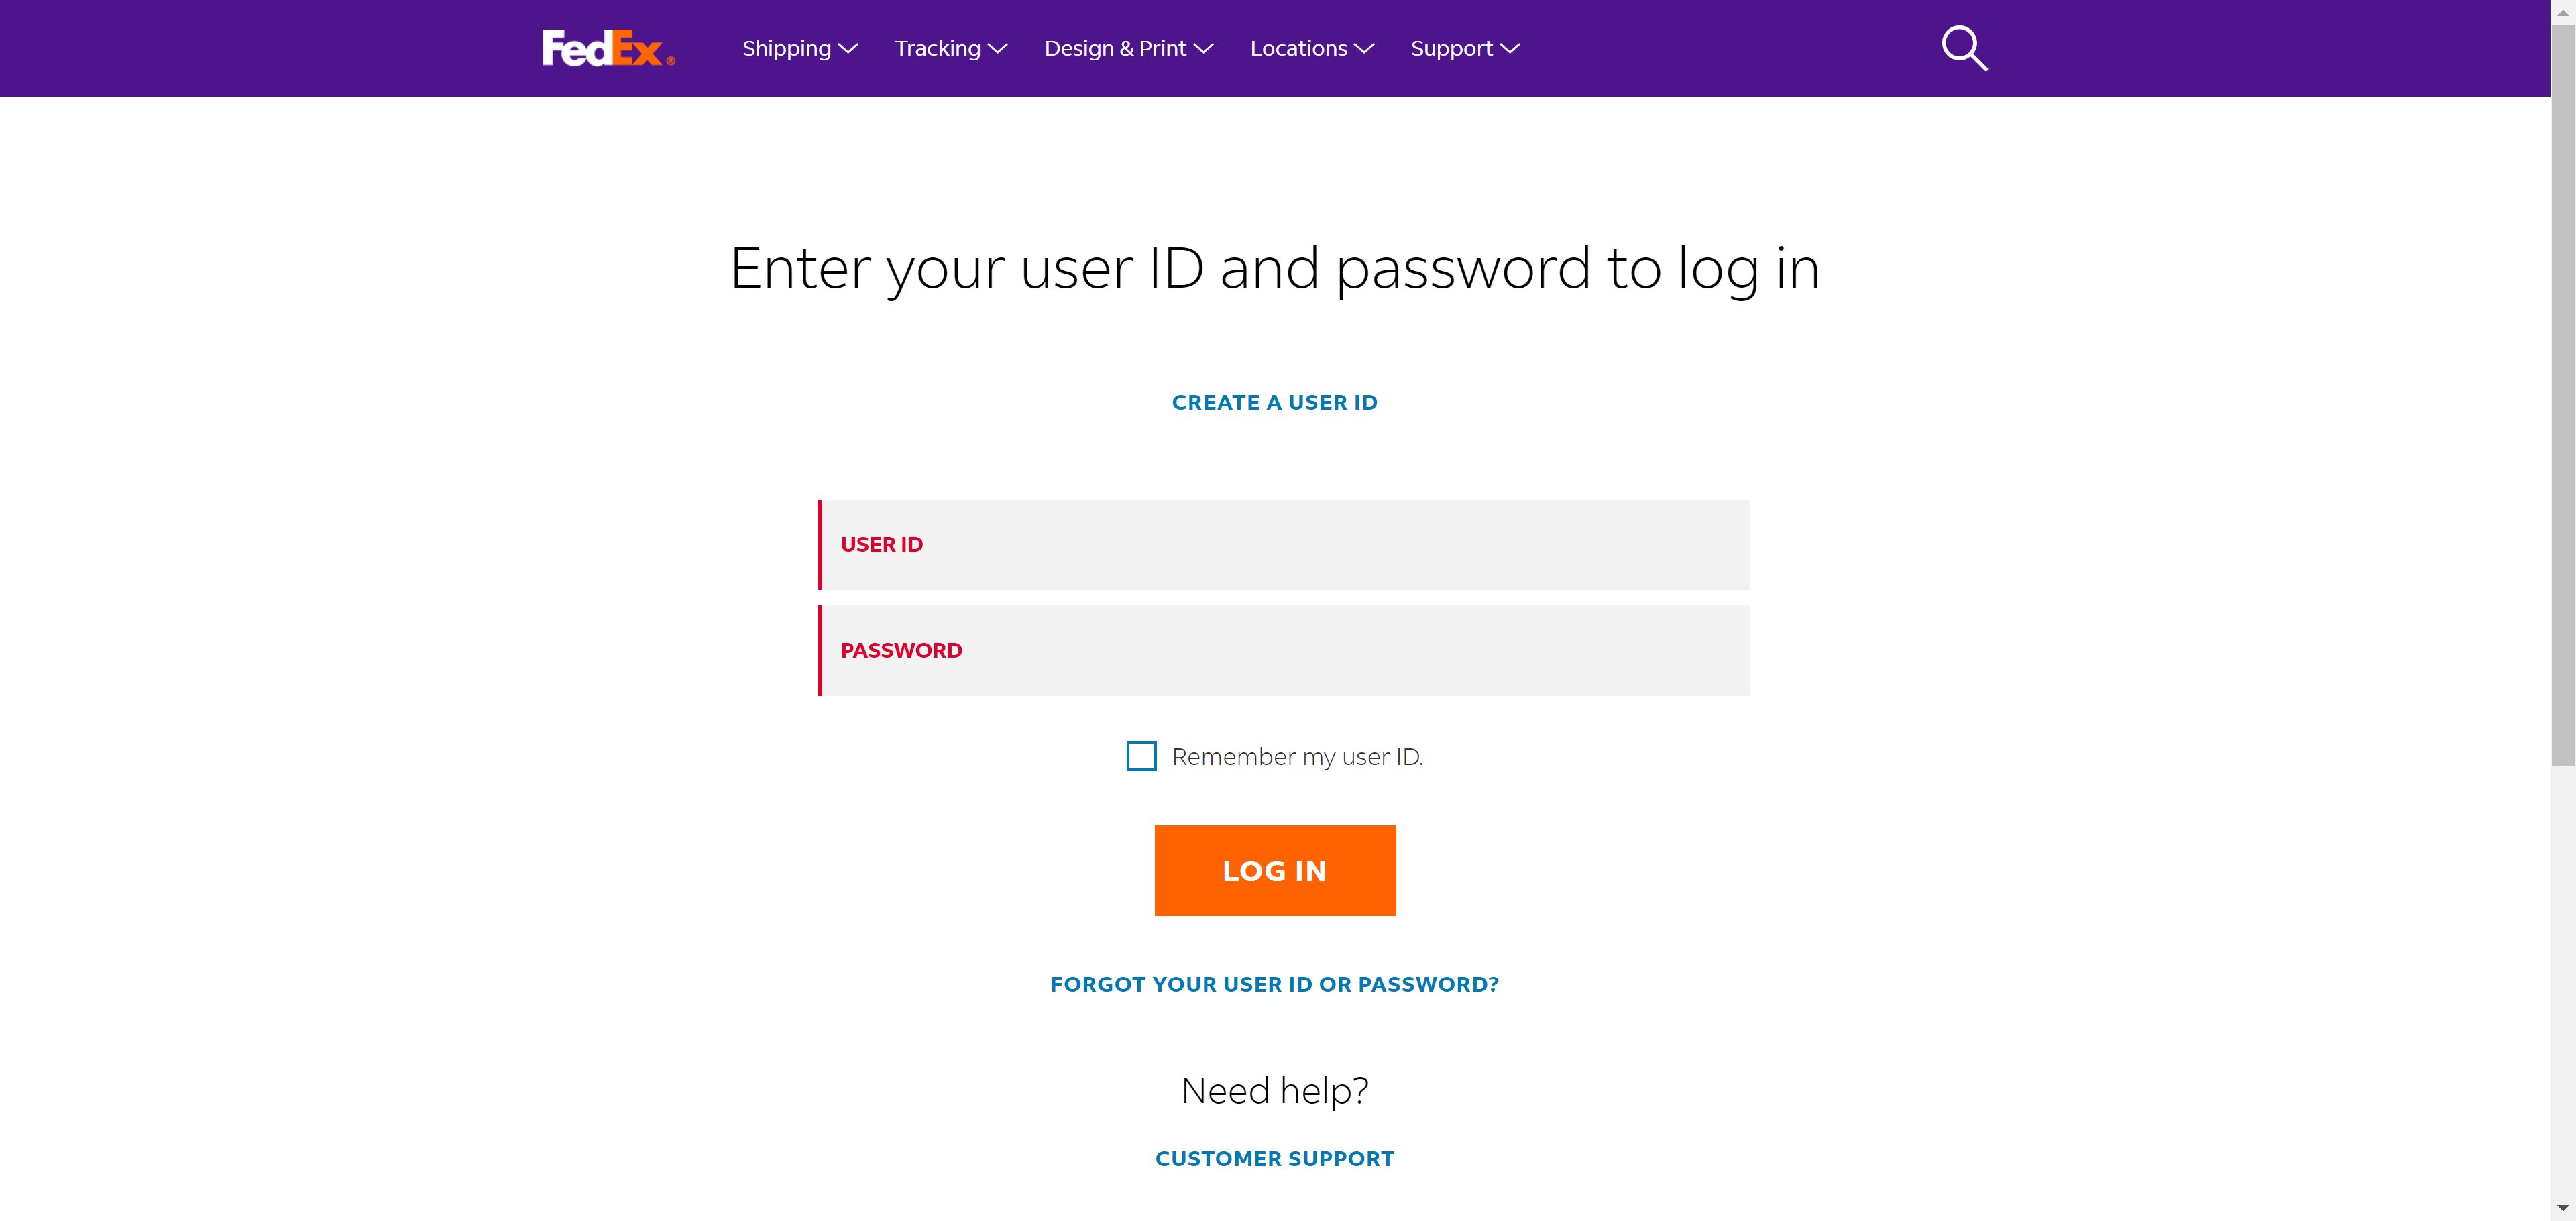login_button: (1155, 823, 1396, 917)
login_form: (808, 490, 1758, 924)
